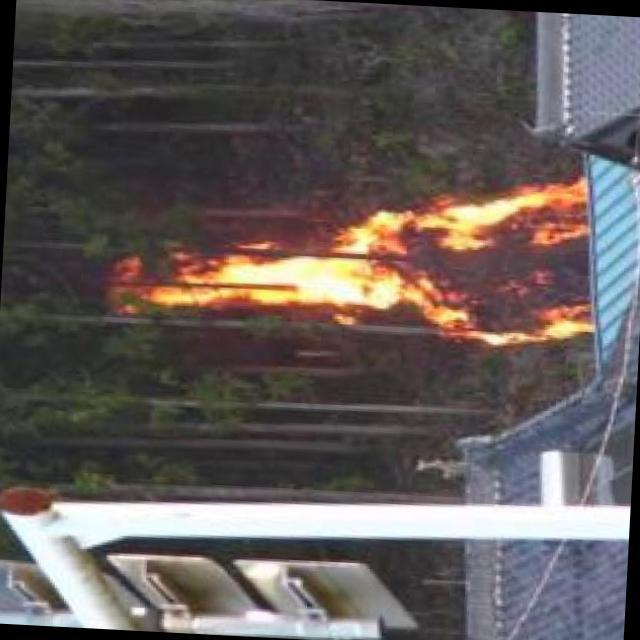Fire: (153, 164, 611, 351)
